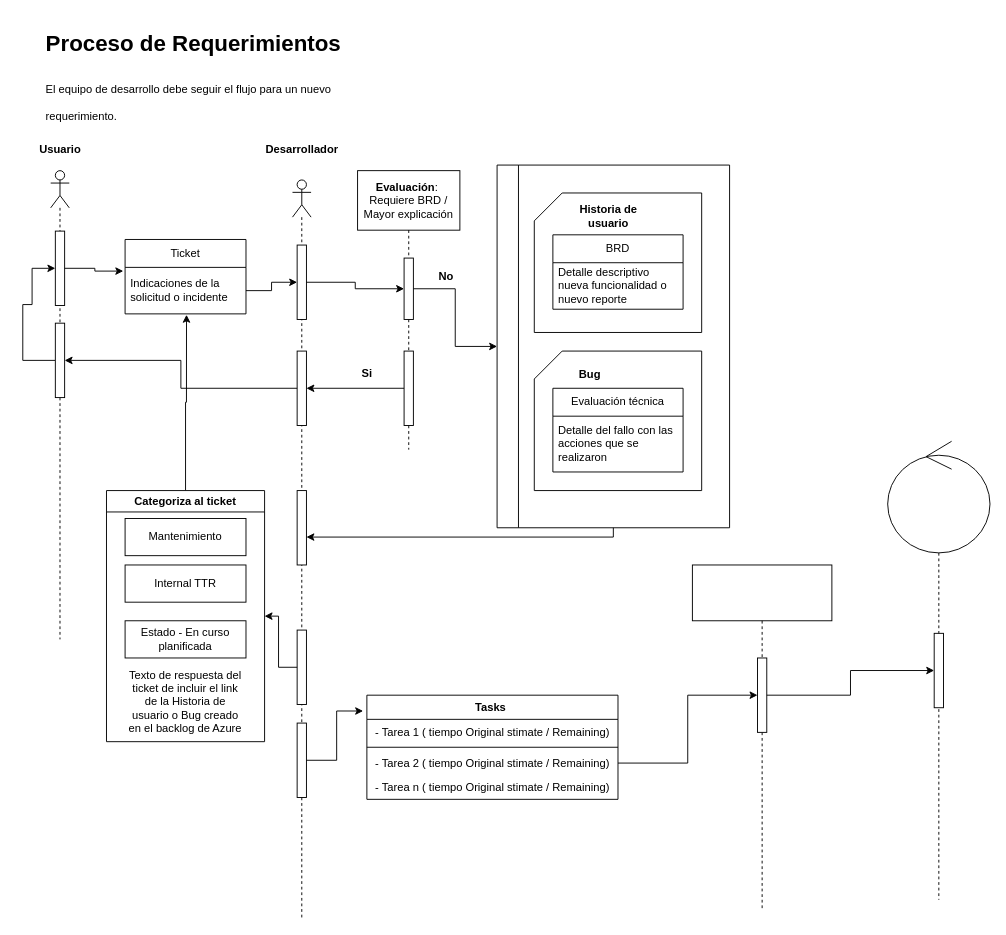
The diagram is 1006 pixels wide and 935 high, and some of its shapes have lost their labels. The centre of each missing label's shape, as x and y in pixels:
"Ciclo de desarrollo" belongs at pixel 938 670.
"Registro en el backlog" belongs at pixel 613 346.
"Sprints" belongs at pixel 761 736.
